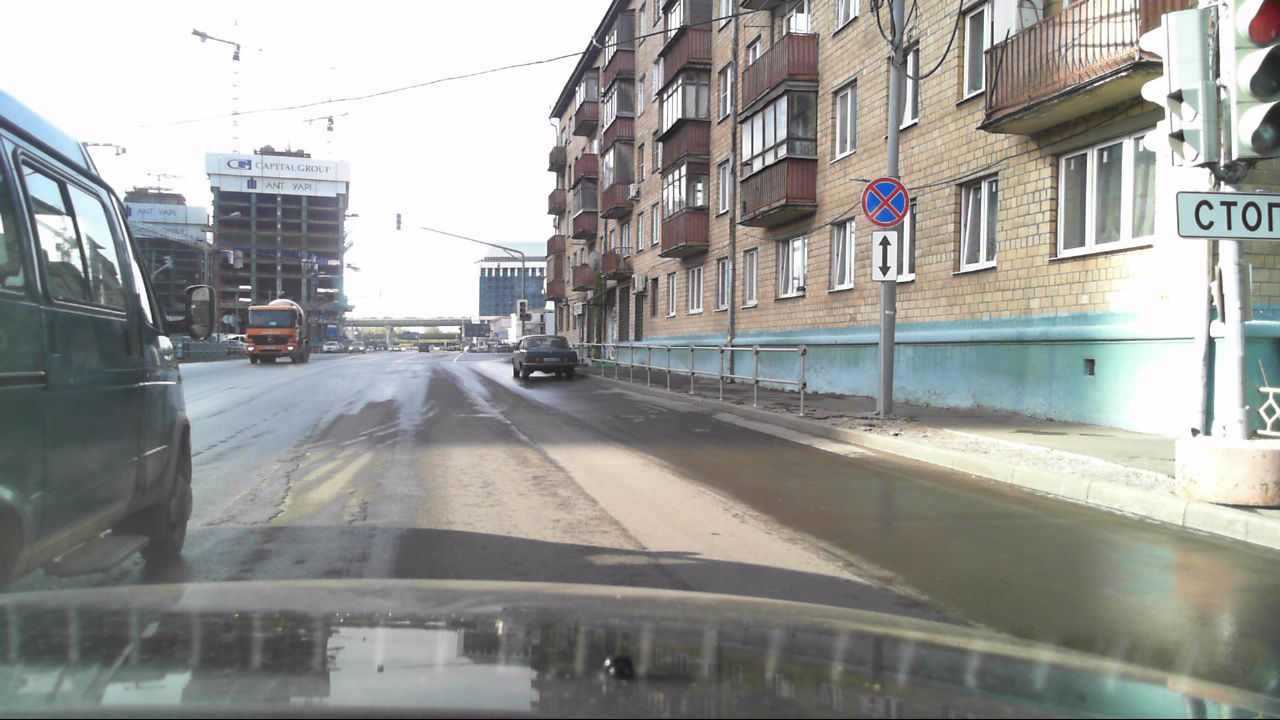No Parking: (864, 180, 913, 225)
